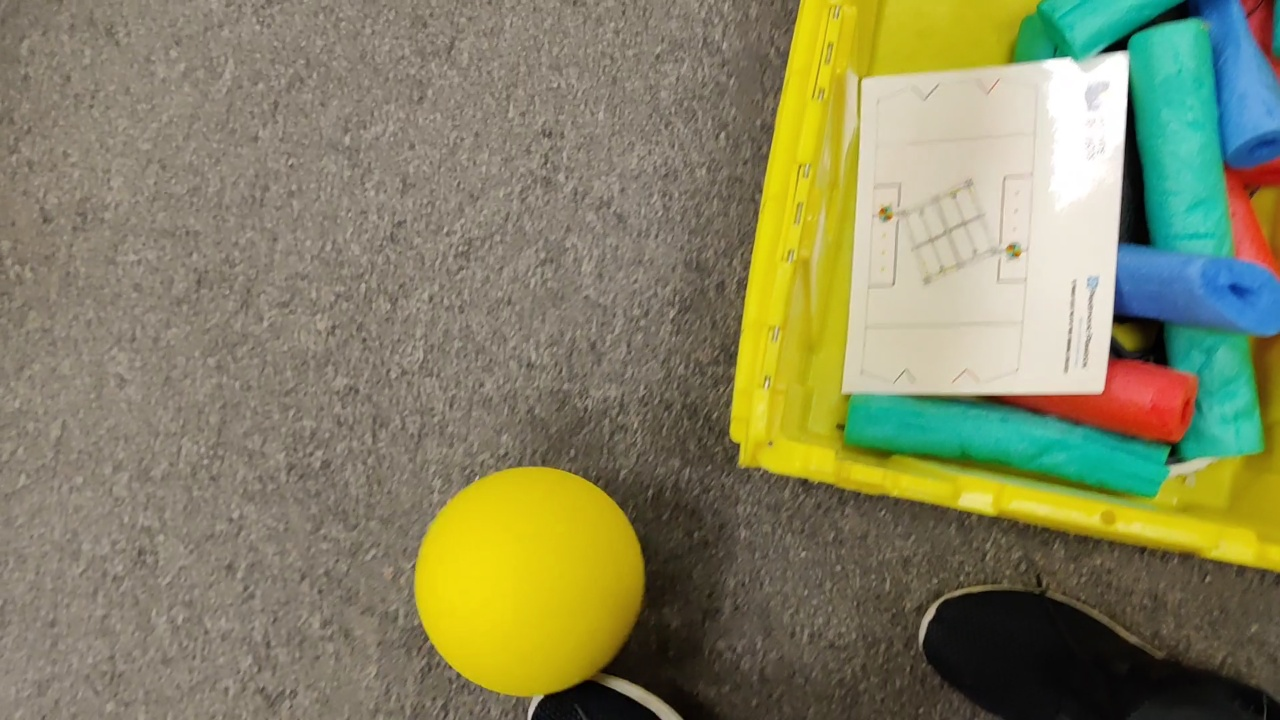Ball: (413, 465, 648, 695)
